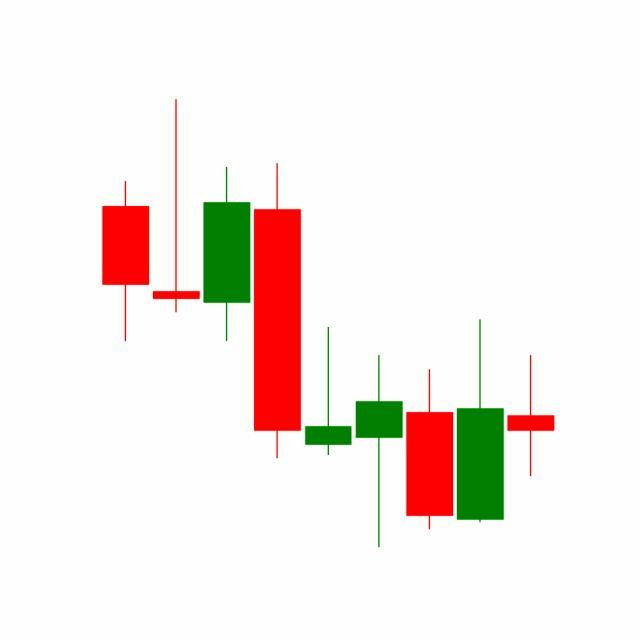Hikkake Pattern: (252, 159, 506, 549)
